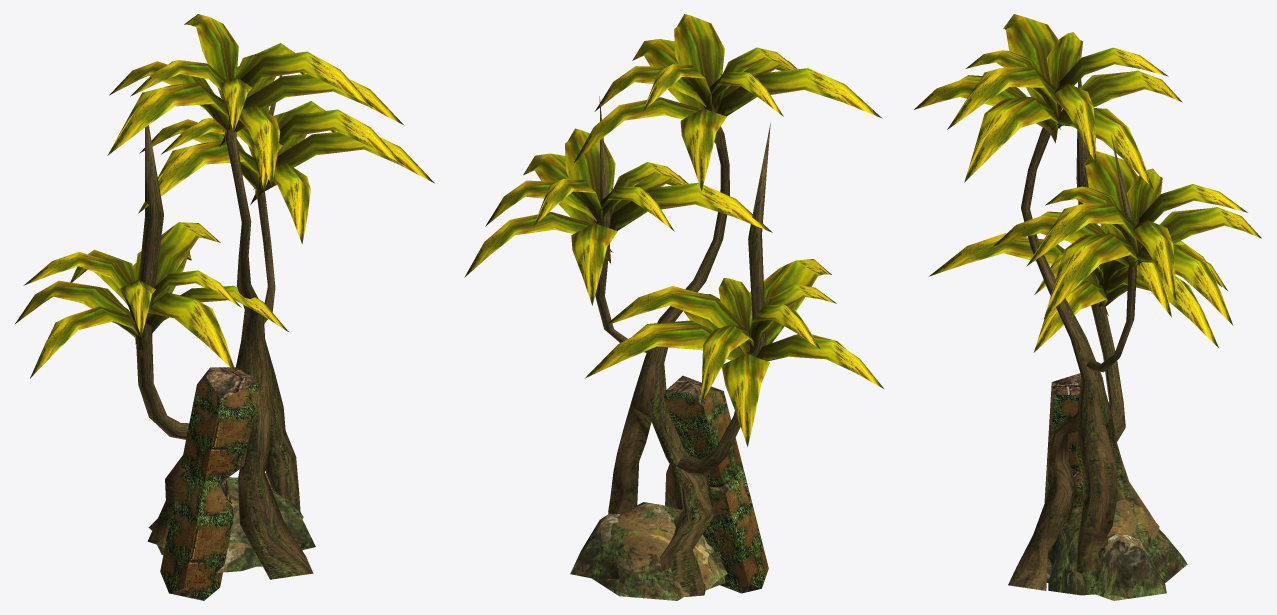
Rendered from Tree03.FBX.
3 renders of one model, left to right at view 1: azimuth 30°, elevation 25°; view 2: azimuth 150°, elevation 25°; view 3: azimuth 270°, elevation 25°, orthographic. The views are drawn at different scales.
Visible parts, largest first — view 1: Leaf (×3), Bark, Pillar, Rock; view 2: Leaf (×3), Bark, Pillar, Rock; view 3: Leaf (×3), Bark, Rock, Pillar.
Boxes of the visible parts, x1,y1,x2,y2 form: Leaf (×3): (15, 14, 434, 378); Bark: (135, 75, 313, 579); Pillar: (160, 367, 260, 600); Rock: (148, 473, 315, 572); Leaf (×3): (464, 14, 883, 446); Bark: (595, 96, 770, 596); Pillar: (663, 375, 768, 593); Rock: (570, 502, 727, 600); Leaf (×3): (914, 14, 1261, 352); Bark: (1008, 79, 1155, 590); Rock: (1046, 500, 1187, 600); Pillar: (1044, 373, 1083, 511).
Size of the model in its own units: 1032 by 1386 by 824.
